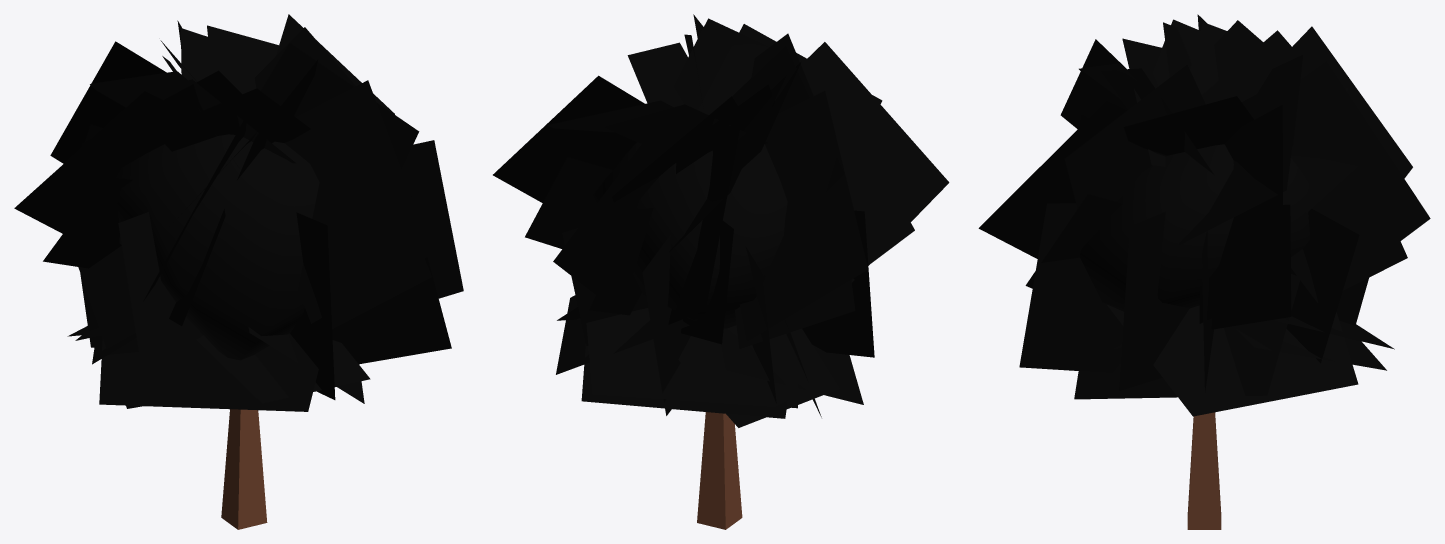
Rendered from FBX_Tree_B.fbx.
The picture shows the model from 3 angles, left to right: view 1: azimuth 30°, elevation 25°; view 2: azimuth 150°, elevation 25°; view 3: azimuth 270°, elevation 25°; orthographic projection.
Visible parts, largest first — view 1: Tree_B; view 2: Tree_B; view 3: Tree_B.
Boxes of the visible parts, x1,y1,x2,y2 form: Tree_B: [14, 14, 463, 529]; Tree_B: [493, 14, 949, 529]; Tree_B: [978, 14, 1430, 529].
Bounding box in the file's own units: 329 × 338 × 394.
